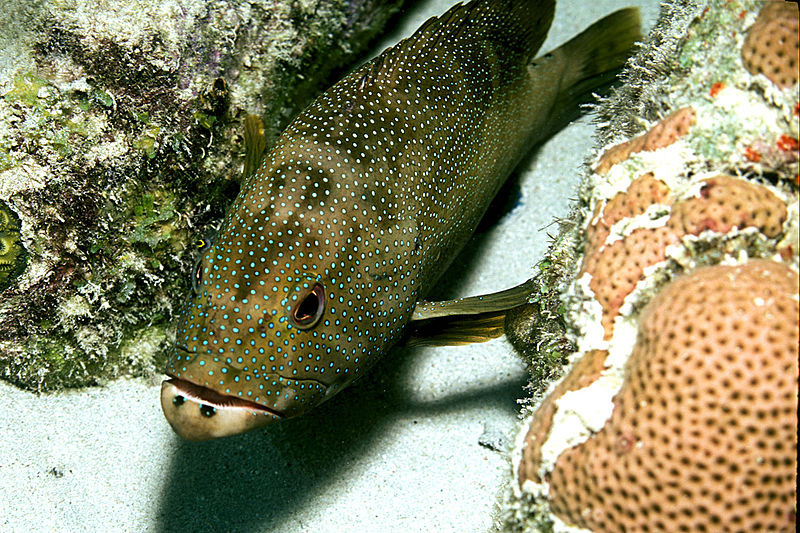Cephalopholis_fulvaw: (154, 1, 678, 459)
